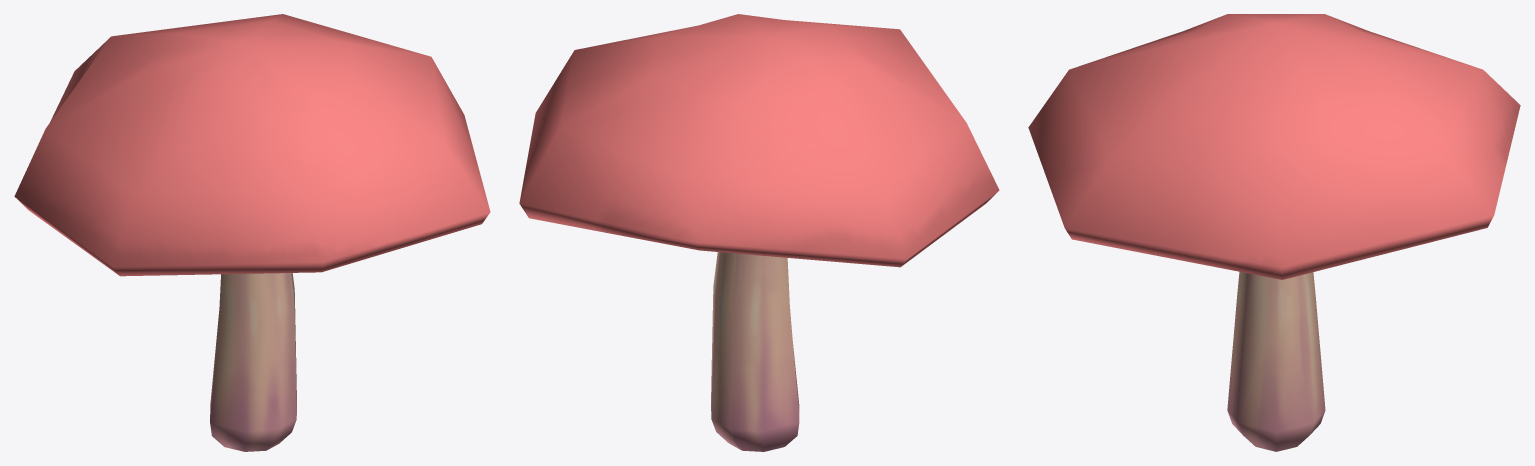
File: MD_mushroom_Nomal_S.fbx
The picture shows the model from 3 angles, left to right: view 1: azimuth 30°, elevation 25°; view 2: azimuth 150°, elevation 25°; view 3: azimuth 270°, elevation 25°; orthographic projection. The views are drawn at different scales.
Visible parts, largest first — view 1: mushroom_Nomal_S1; view 2: mushroom_Nomal_S1; view 3: mushroom_Nomal_S1.
Part boxes in pixels (x1,y1,x2,y2): mushroom_Nomal_S1: (14,14,490,451); mushroom_Nomal_S1: (519,14,999,451); mushroom_Nomal_S1: (1028,14,1520,451).
Bounding box in the file's own units: 841 × 787 × 858.
1 material, 1 textured.
